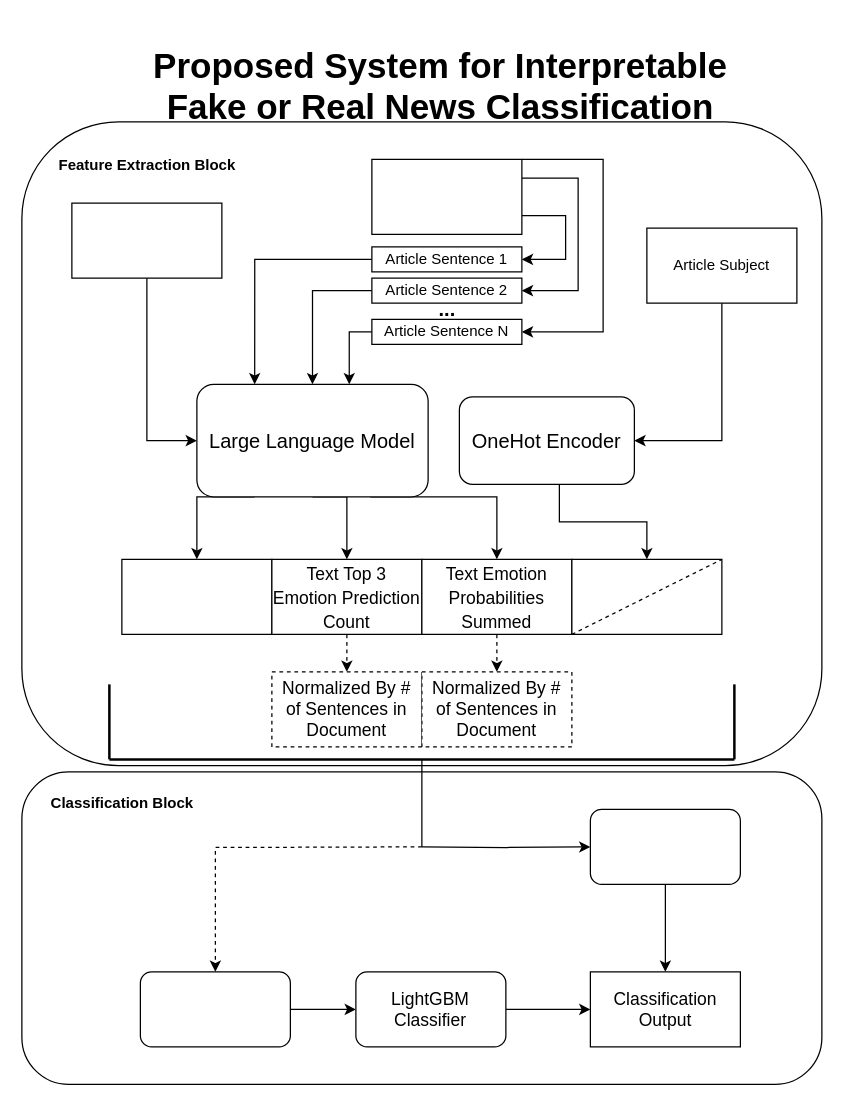
Some shapes in this 844 by 1106 pixel diagram are drawn without their labels. The shapes that lost their labels are listed below. From the top down, each one's centre as x and y in pixels, then its label:
the point at 446,196: Article Text
the point at 146,240: Article Title
the point at 196,596: Title Emotion Probabilities
the point at 646,596: Encoded Subject
the point at 664,846: Support Vector Classifier
the point at 214,1009: Standard Scaler
